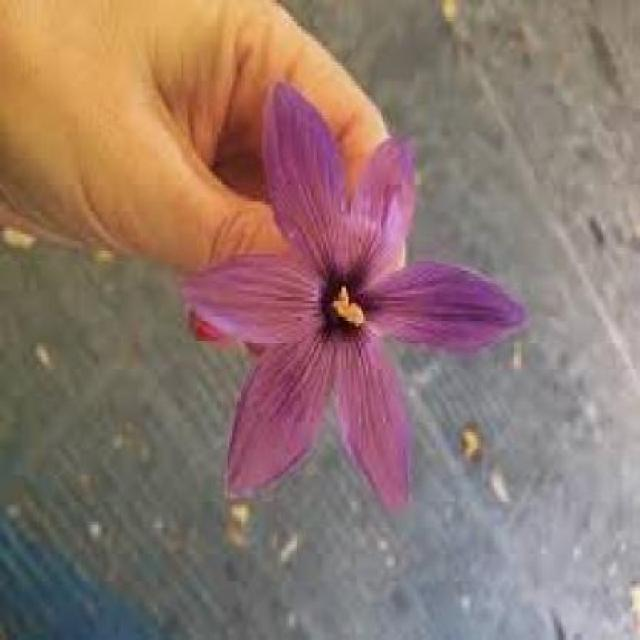saffron open: (184, 84, 526, 509)
